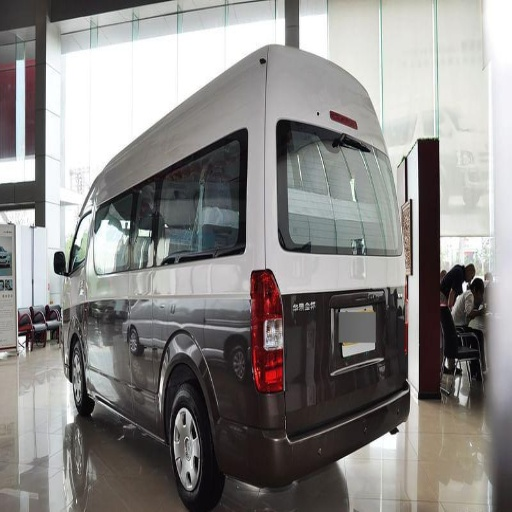back_bumper: (221, 395, 395, 504)
back_glass: (299, 161, 389, 215)
back_left_door: (125, 210, 158, 412)
back_left_light: (249, 271, 282, 391)
front_left_door: (88, 228, 134, 409)
trunk: (265, 255, 395, 420), (149, 296, 252, 418)
